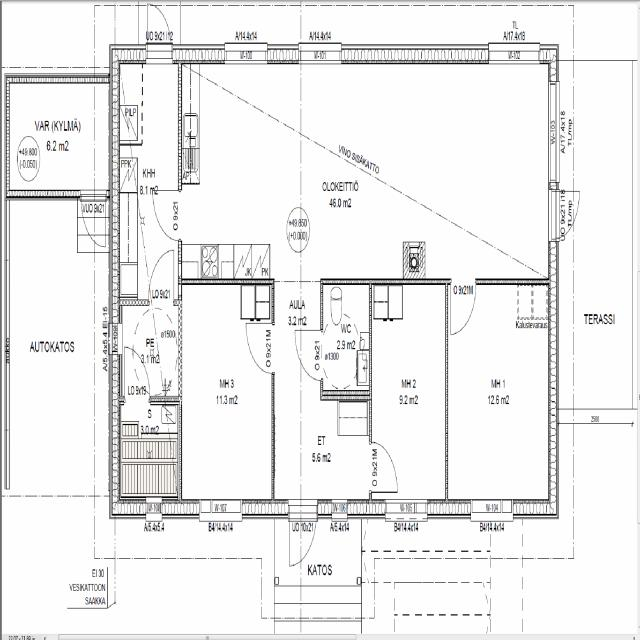door: (290, 500, 316, 572), (548, 191, 582, 238), (124, 346, 150, 406), (148, 0, 172, 64), (153, 190, 182, 240), (246, 323, 274, 374), (451, 278, 476, 334), (295, 330, 323, 380), (149, 251, 174, 306), (369, 443, 397, 492), (82, 189, 105, 247)
